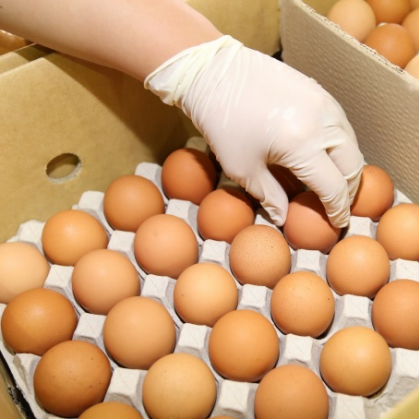egg: (1, 145, 418, 419), (320, 1, 419, 80)
